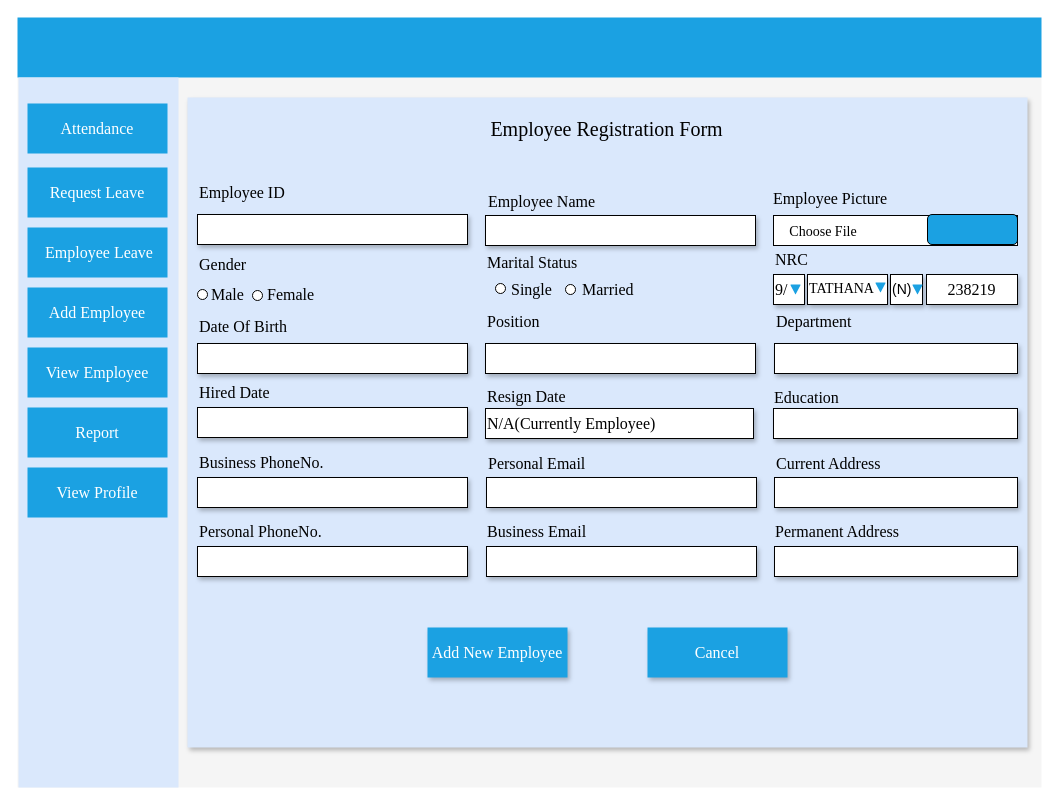
This 1058x804 diagram has some shape labels left out. Each missing label, with the centre of its shape:
"Browse" goes at [972,229].
"Human Resource Management System" goes at [529,47].
